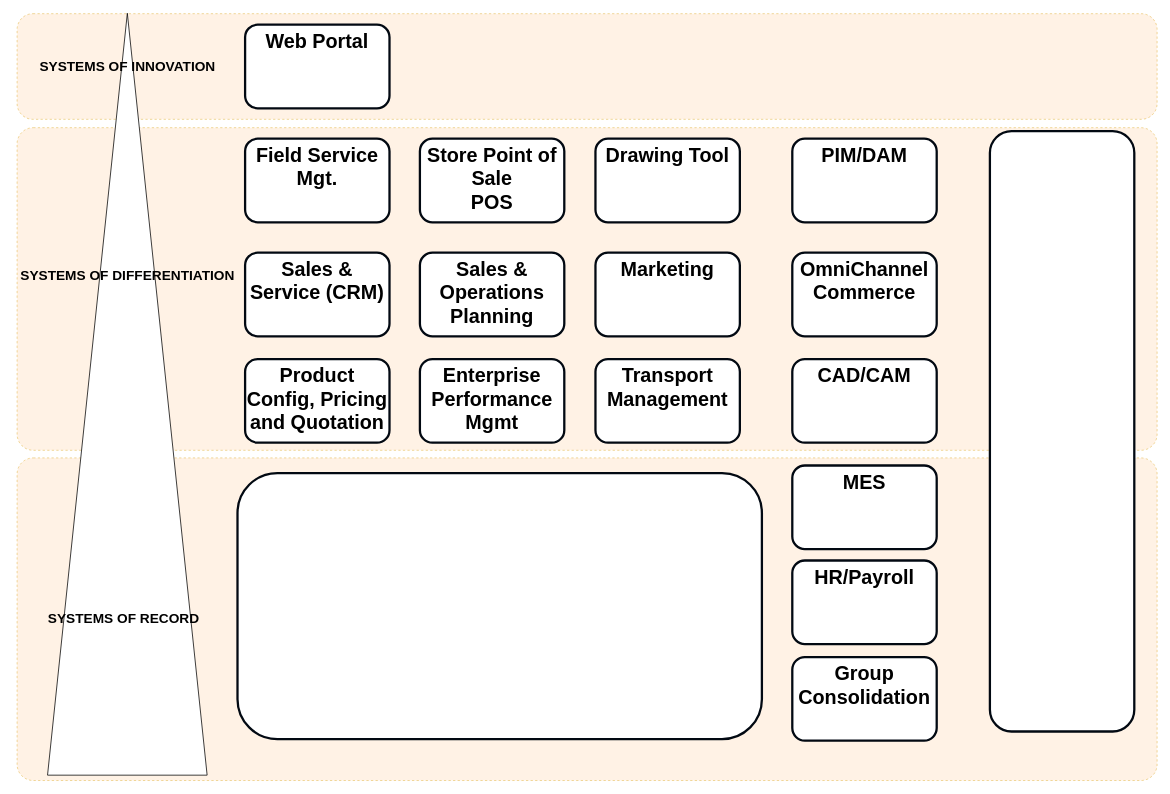
The diagram is 1170 pixels wide and 794 high, and some of its shapes have lost their labels. The shapes that lost their labels are listed below. From the top down, each one's centre as x and y in pixels, then its label:
point 1061,431: Analytics & BI
point 499,606: Core ERP
